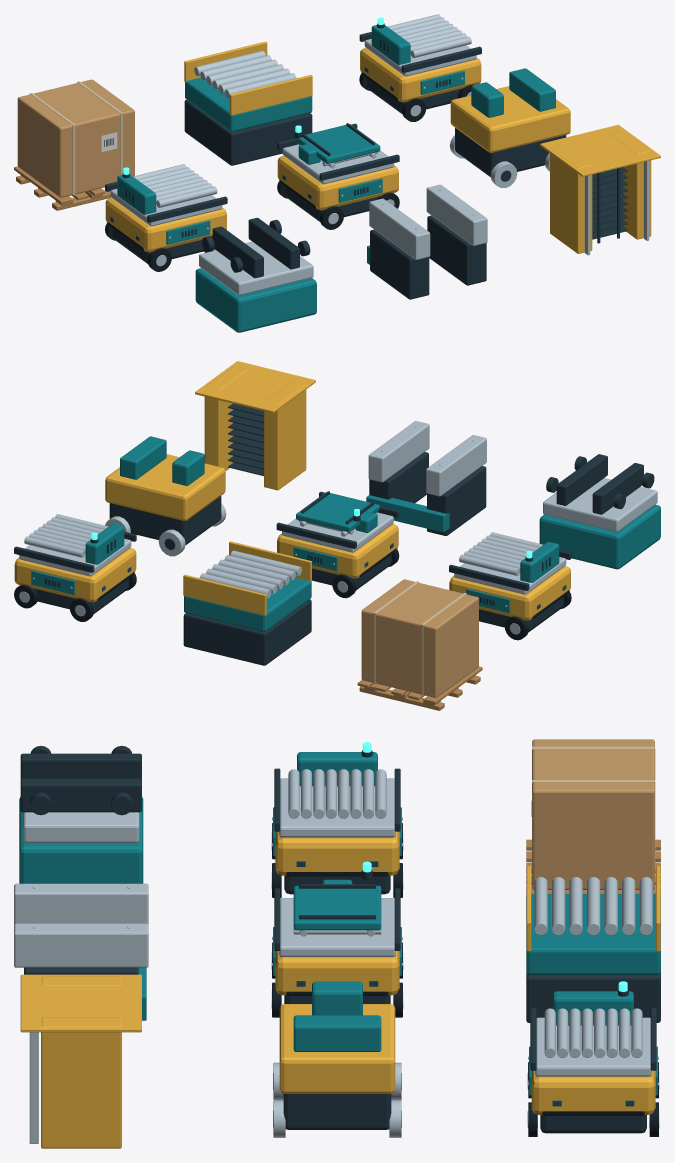
Rendered from equipment_models.glb.
3 renders of one model, top to bottom at view 1: azimuth 30°, elevation 25°; view 2: azimuth 150°, elevation 25°; view 3: azimuth 270°, elevation 25°, orthographic. The views are drawn at different scales.
Parts seen in each view (by area): view 1: Packed load, Lift carriage, Base beam, Lift support frame, Mast structural column, Top crosshead, Lift deck, Fork bearing plate, Beveled safety chassis.002, Beveled safety chassis, Outer telescopic tine, Outer telescopic tine.001 (+37 smaller); view 2: Packed load, Base beam, Lift support frame, Lift carriage, Mast structural column, Top crosshead, Lift deck, Fork bearing plate, Beveled safety chassis, Beveled safety chassis.002, Beveled safety chassis.001, Travel bogie (+29 smaller); view 3: Packed load, Mast structural column.001, Lift deck, Base beam, Sliding steel tine.001, Top crosshead, Sliding steel tine, Lift carriage, Beveled safety chassis, Beveled safety chassis.001, Beveled safety chassis.002, Travel bogie (+24 smaller).
Part boxes in pixels (x1,y1,x2,y2): Packed load: (17, 79, 134, 197); Lift carriage: (195, 268, 316, 332); Base beam: (450, 86, 570, 152); Lift support frame: (184, 99, 312, 165); Mast structural column: (550, 145, 592, 253); Top crosshead: (540, 124, 660, 176); Lift deck: (185, 77, 312, 131); Fork bearing plate: (199, 241, 313, 295); Beveled safety chassis.002: (277, 156, 398, 210); Beveled safety chassis: (360, 48, 481, 102); Outer telescopic tine: (370, 229, 429, 299); Outer telescopic tine.001: (427, 215, 486, 285); Packed load: (361, 579, 478, 697); Base beam: (105, 454, 225, 520); Lift support frame: (183, 599, 311, 665); Lift carriage: (539, 504, 660, 569); Mast structural column: (264, 381, 306, 490); Top crosshead: (195, 361, 315, 413); Lift deck: (184, 577, 311, 631); Fork bearing plate: (543, 478, 657, 531); Beveled safety chassis: (14, 548, 136, 602); Beveled safety chassis.002: (277, 524, 398, 578); Beveled safety chassis.001: (449, 566, 570, 620); Travel bogie: (109, 496, 221, 545); Packed load: (532, 739, 654, 889); Mast structural column.001: (41, 1017, 121, 1148); Lift deck: (526, 893, 660, 974); Base beam: (279, 1004, 395, 1093); Sliding steel tine.001: (14, 923, 148, 967); Top crosshead: (20, 974, 141, 1032); Sliding steel tine: (14, 883, 148, 924); Lift carriage: (19, 796, 143, 883); Beveled safety chassis: (531, 1070, 655, 1114); Beveled safety chassis.001: (275, 831, 399, 875); Beveled safety chassis.002: (275, 951, 399, 995); Travel bogie: (283, 1094, 391, 1129).
Size of the model in its own units: 5.22 by 1 by 4.8.
